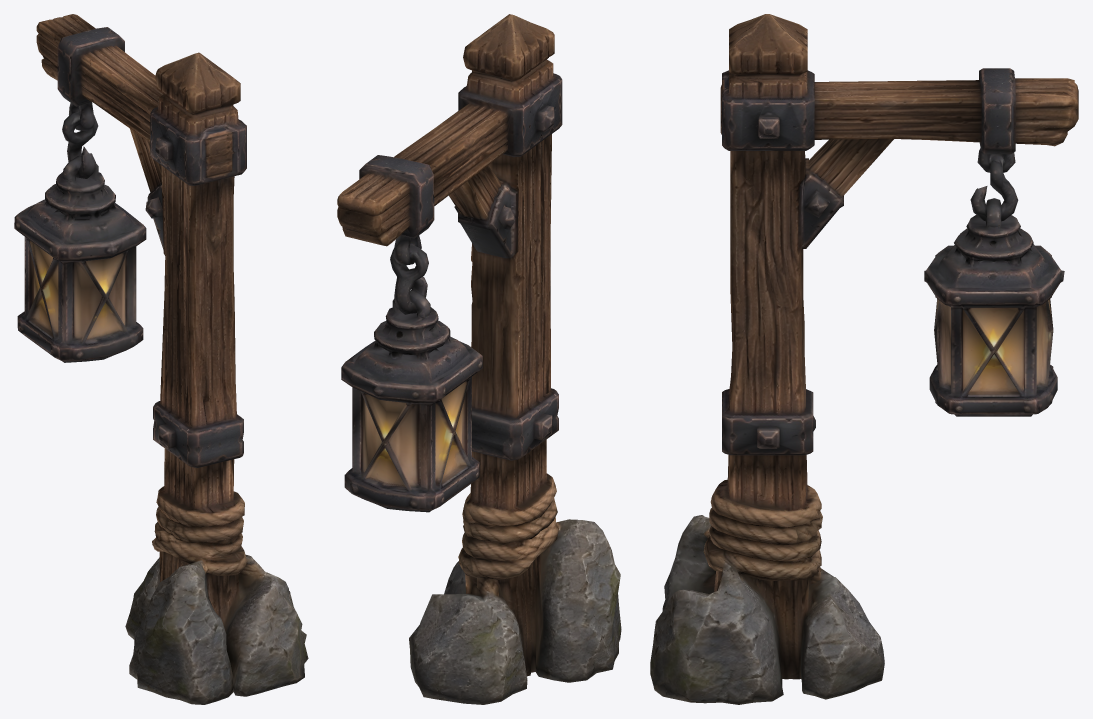
The model's file is SM_Env_LanternPost.fbx.
3 views of the same model, side by side, from view 1: azimuth 30°, elevation 25°; view 2: azimuth 150°, elevation 25°; view 3: azimuth 270°, elevation 25° (orthographic). The views are drawn at different scales.
Parts seen in each view (by area): view 1: SM_Env_LanternPost; view 2: SM_Env_LanternPost; view 3: SM_Env_LanternPost.
Part boxes in pixels (x1,y1,x2,y2): SM_Env_LanternPost: (14,14,308,704); SM_Env_LanternPost: (337,14,621,704); SM_Env_LanternPost: (650,14,1078,704).
Size of the model in its own units: 25.1 by 56.7 by 95.
Materials: 1 (1 with a texture image).
